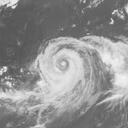cyclone: (34, 36, 104, 97)
